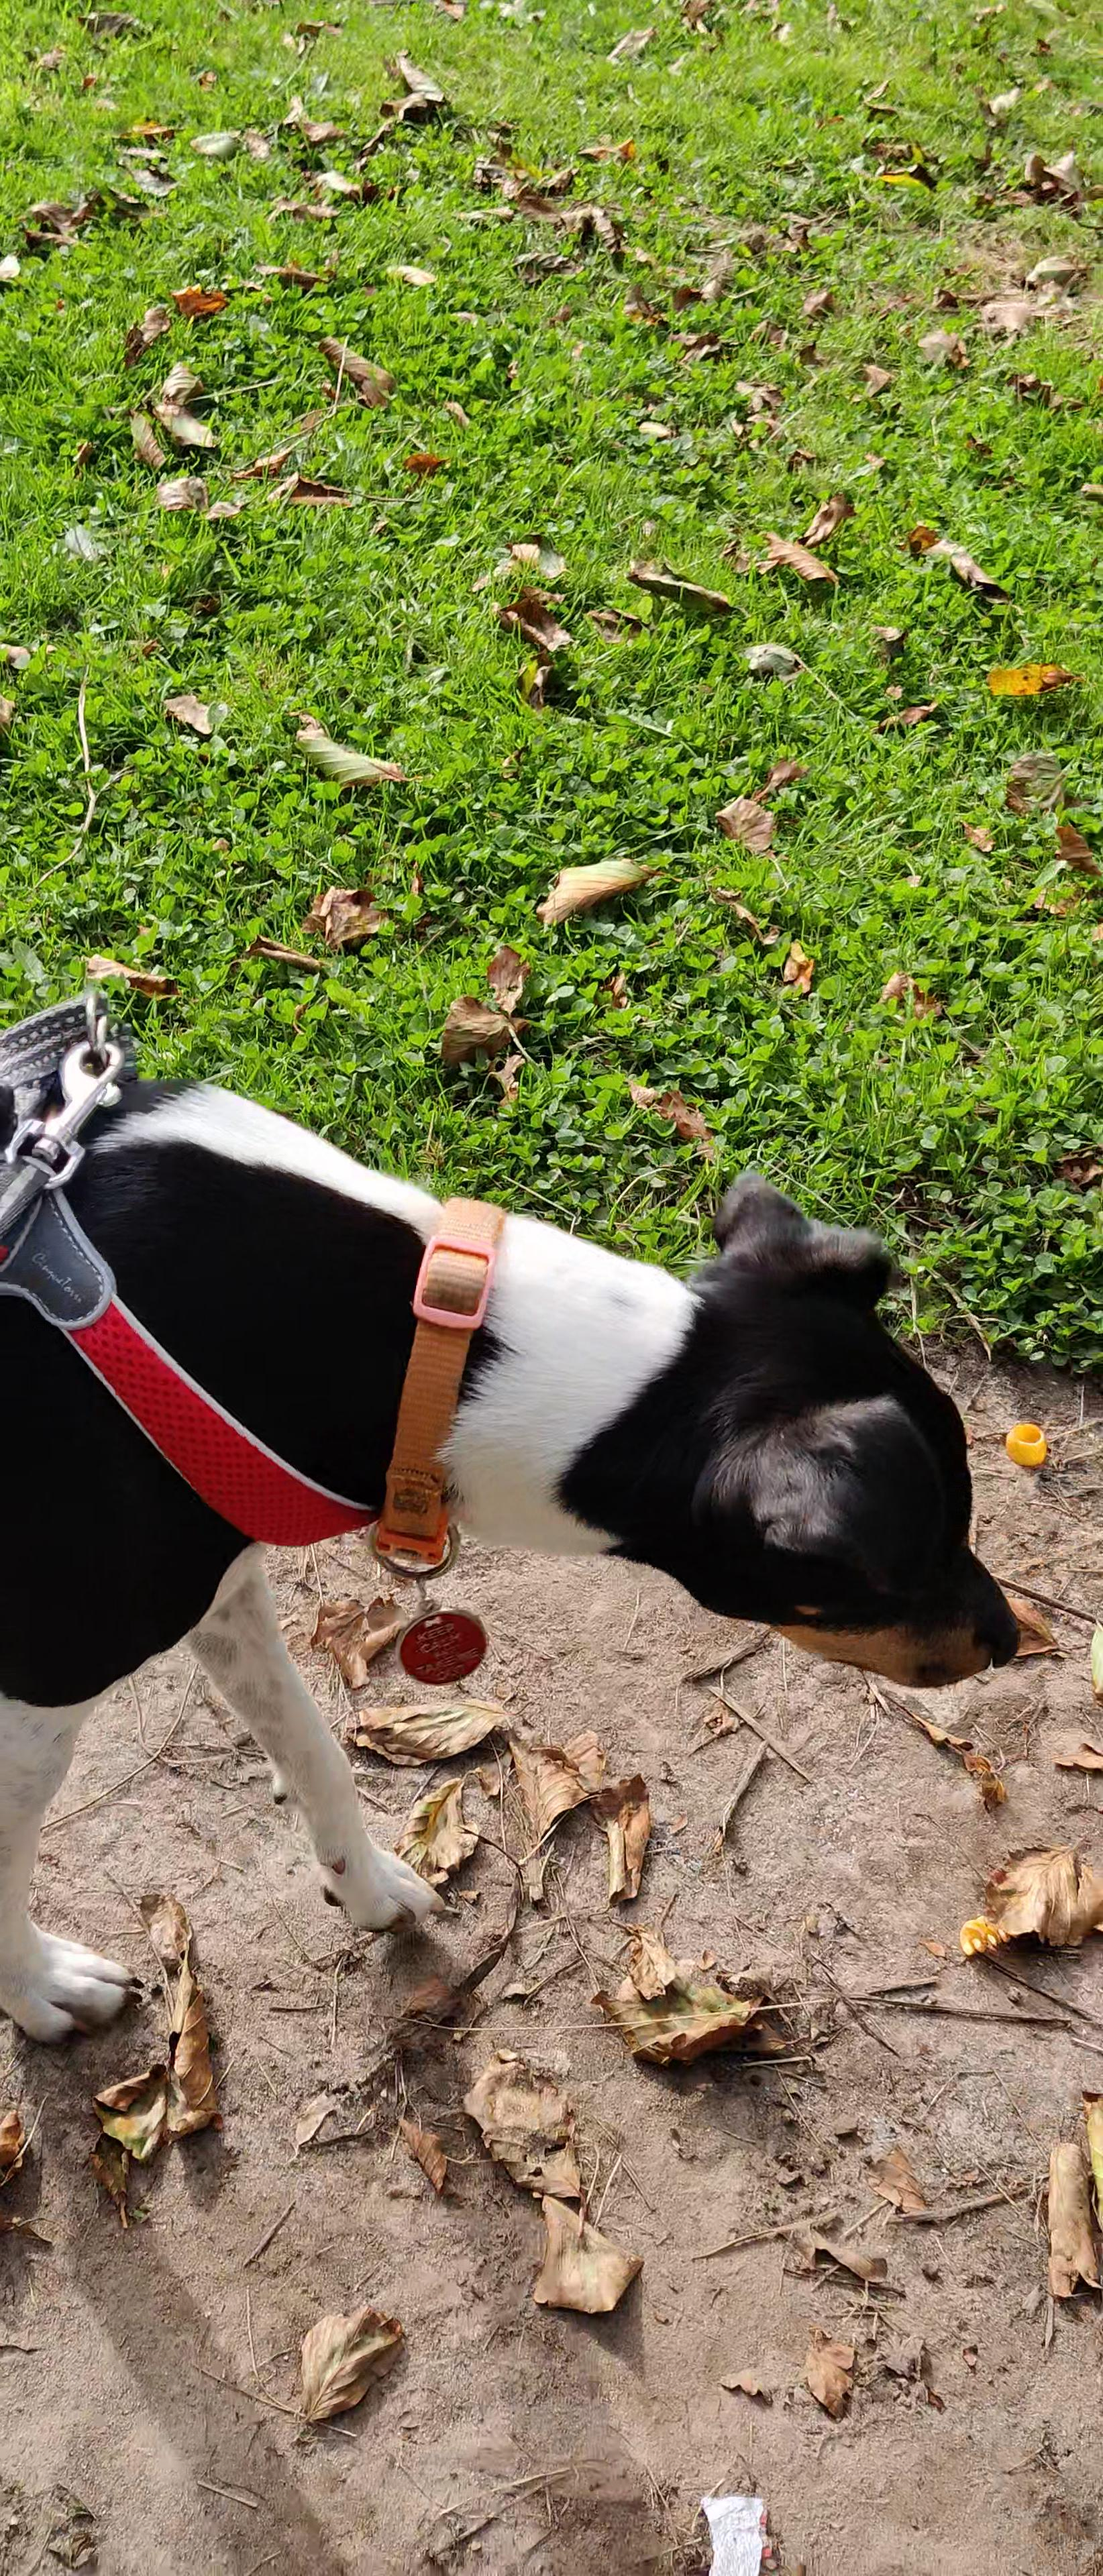Dog: (0, 989, 1037, 2058)
